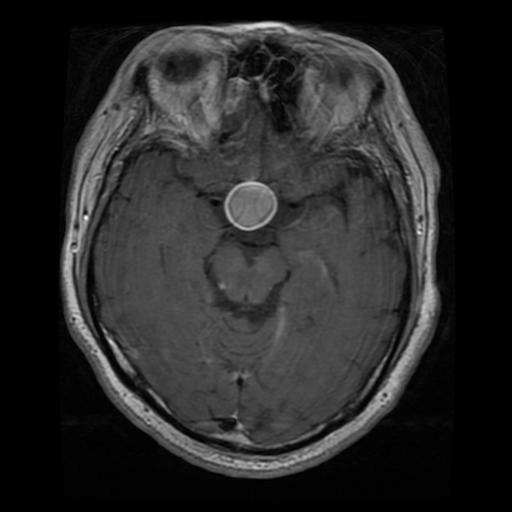Tumour-Pituitary: (215, 180, 286, 237)
